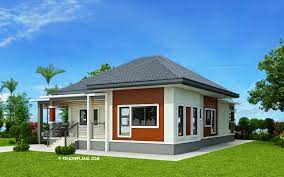Building House: (26, 55, 241, 155)
